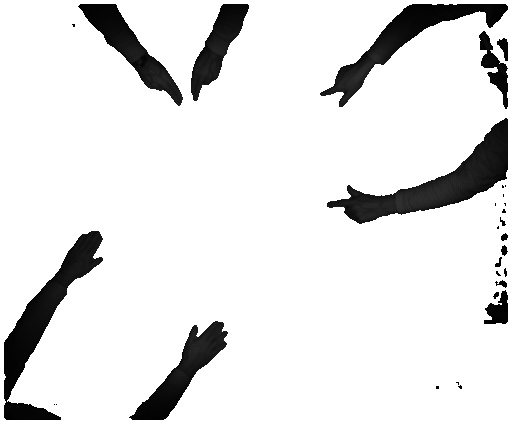hand: (322, 184, 388, 223), (137, 58, 187, 108), (182, 320, 231, 370), (320, 63, 370, 111), (61, 225, 103, 281), (190, 58, 223, 103)
